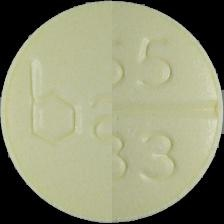50090-0513: (0, 0, 224, 224)
